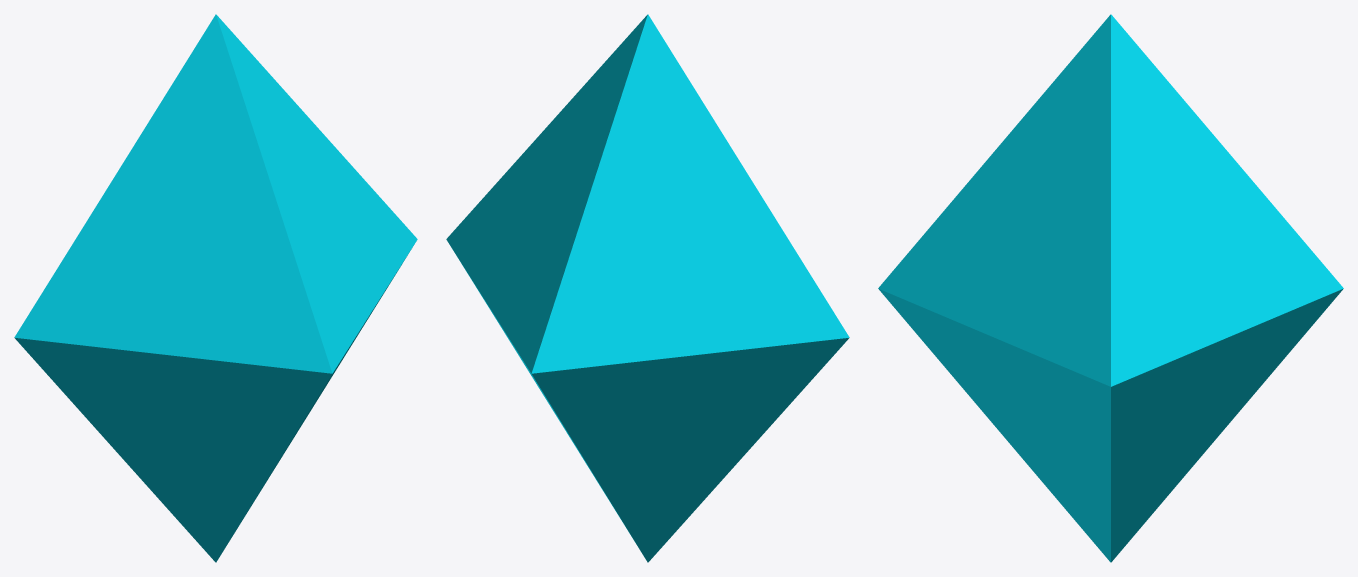
File: facet_gem.gltf
3 renders of one model, left to right at view 1: azimuth 30°, elevation 25°; view 2: azimuth 150°, elevation 25°; view 3: azimuth 270°, elevation 25°, orthographic.
Visible parts, largest first — view 1: FacetGem; view 2: FacetGem; view 3: FacetGem.
Part boxes in pixels (box(x1,y1,x2,y2)): FacetGem: box(14, 14, 417, 562); FacetGem: box(446, 14, 849, 562); FacetGem: box(878, 14, 1343, 562).
Bounding box in the file's own units: 2 × 2.6 × 2.
